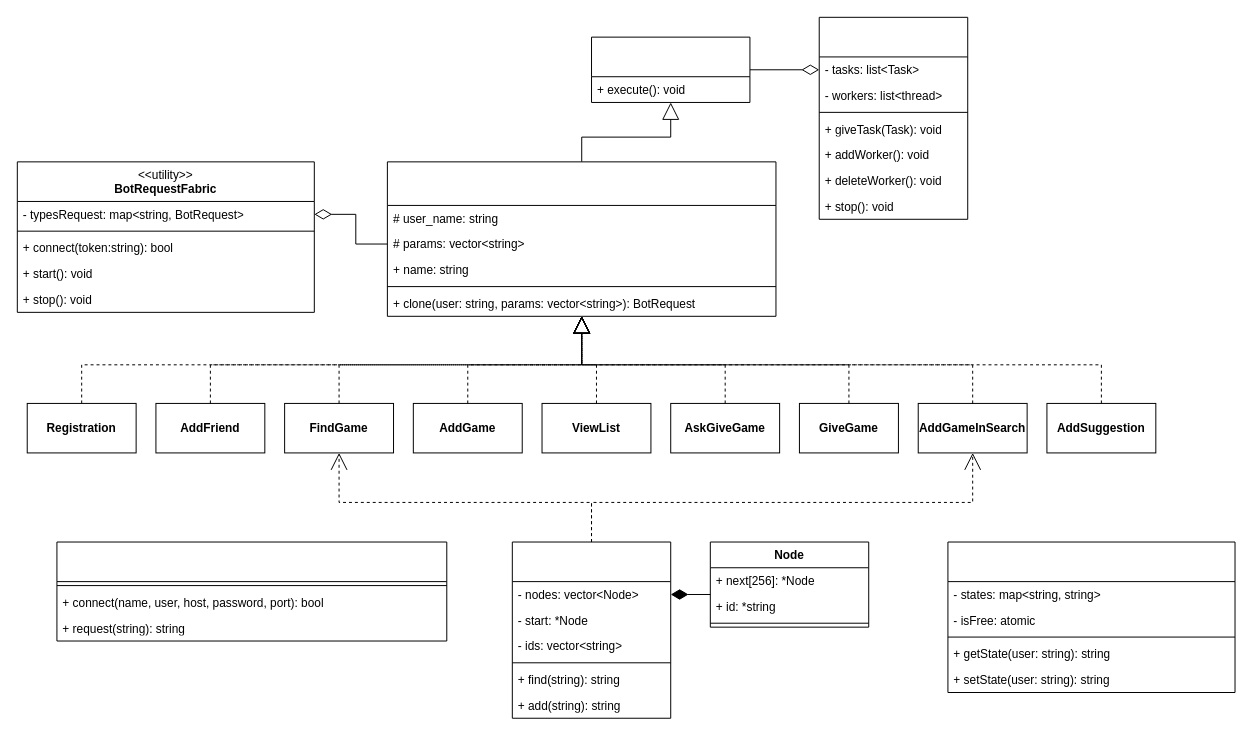
The diagram is 1252 pixels wide and 739 high, and some of its shapes have lost their labels. The shapes that lost their labels are listed below. From the top down, each one's box as (x1, y1, x2, y2) in pixels, then its label:
(591, 36, 750, 102): <<interface>> Task
(818, 16, 968, 219): <<utility>> WorkerManager
(386, 161, 776, 316): <<abstract>> BotRequest
(56, 541, 447, 641): <<utility>> DataBase
(511, 541, 671, 718): <<utility>> SearchGameEngine
(947, 541, 1235, 693): <<utility>> UserSFM
